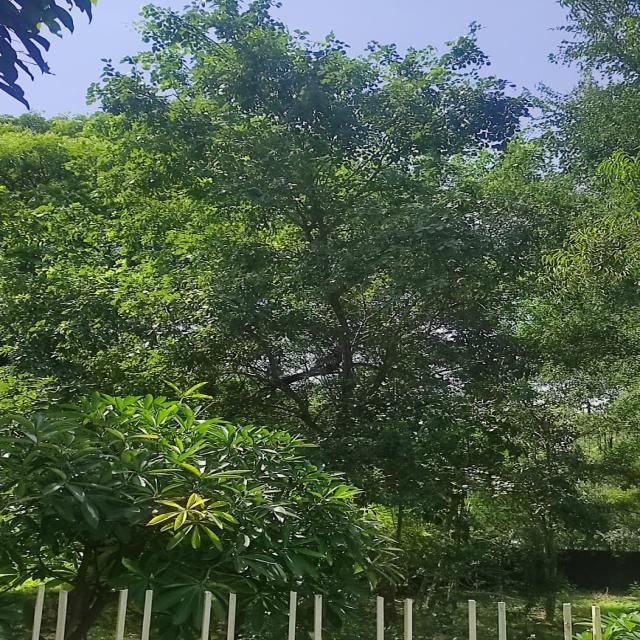Devakanchan tree: (105, 36, 469, 467)
